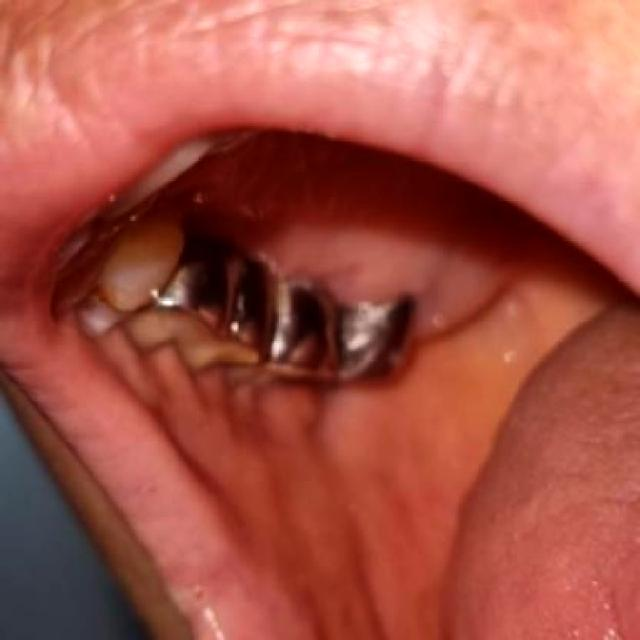Plaque: (158, 163, 424, 306)
